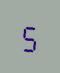five: (19, 19, 38, 53)
